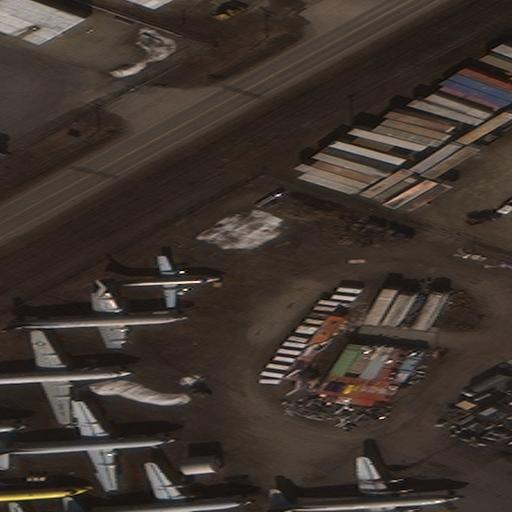Large Civil Transport: (0, 329, 131, 425), (68, 461, 253, 512)
Medium Civil Transport: (0, 400, 175, 490), (0, 279, 187, 349), (267, 455, 459, 512), (98, 255, 220, 310), (0, 472, 89, 512)
